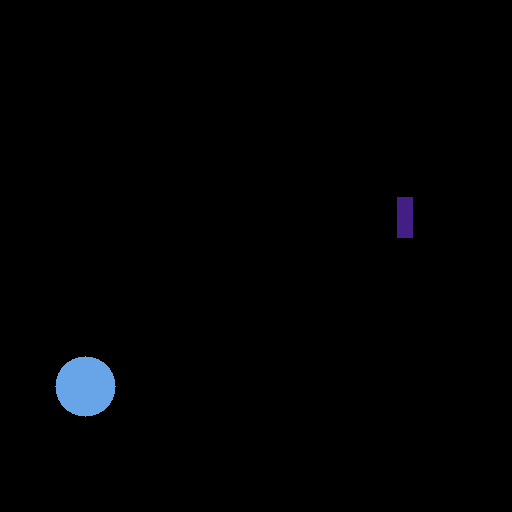circle: (51, 350, 121, 423)
up_rect: (387, 189, 421, 246)
